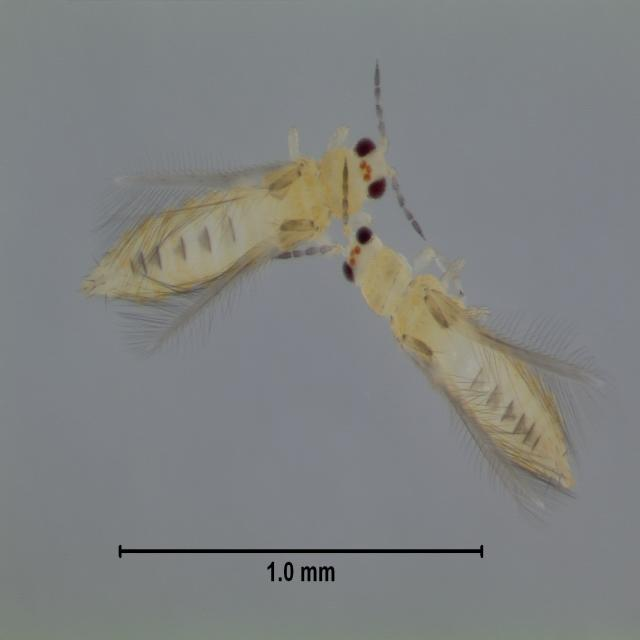Thrip-Adult-: (43, 64, 427, 364), (323, 202, 600, 522)
